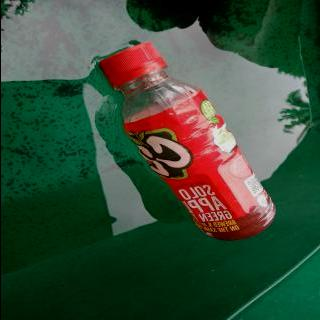bottle: (94, 42, 276, 244)
